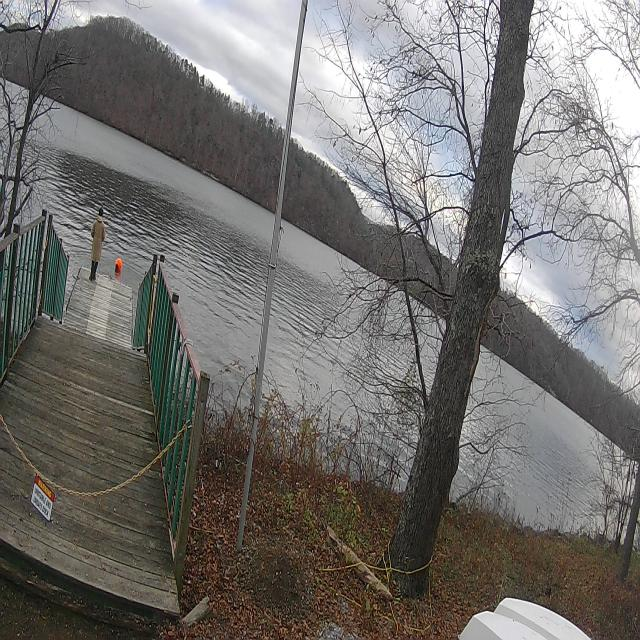Buoy: (113, 256, 124, 277)
